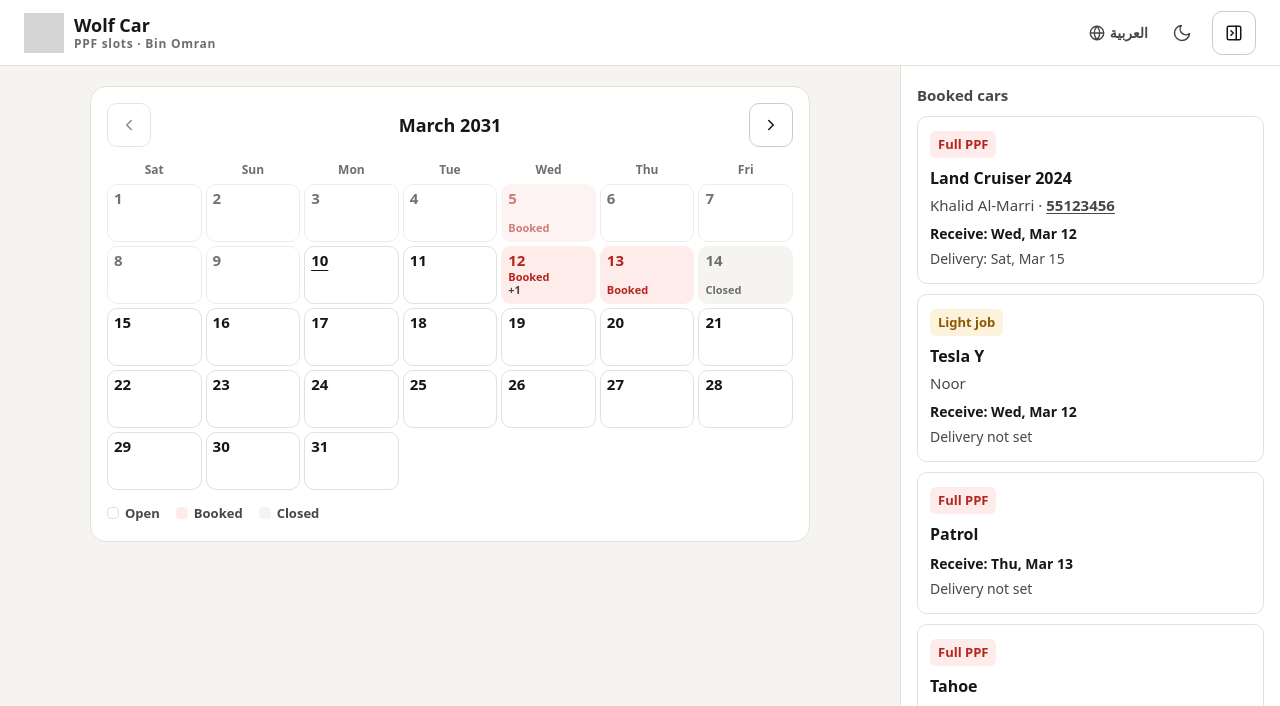
Test case: Sales slots page › says a second full PPF is an exception when asking for one
Click the button "12 Booked +1".
click(549, 275)  # box [501,246,596,304]
(page scrolled)
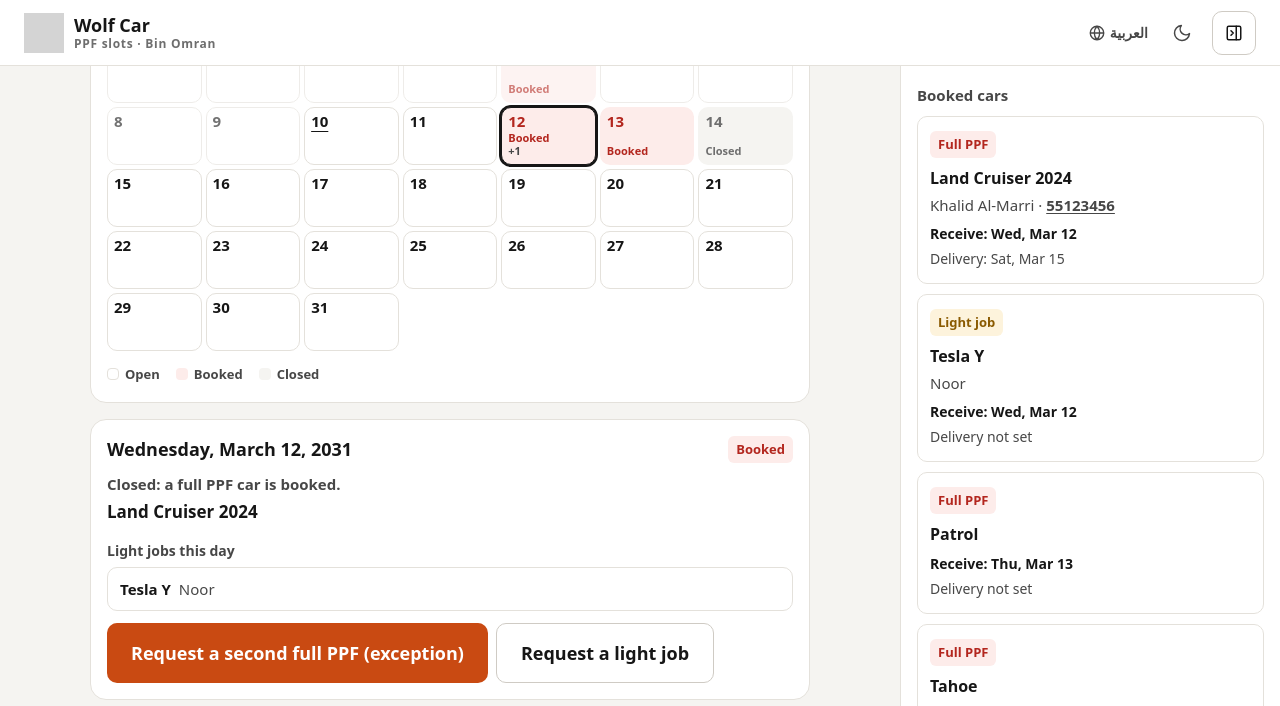
Click the button "Request a second full PPF (exception)".
click(298, 653)  # box [107,623,488,683]
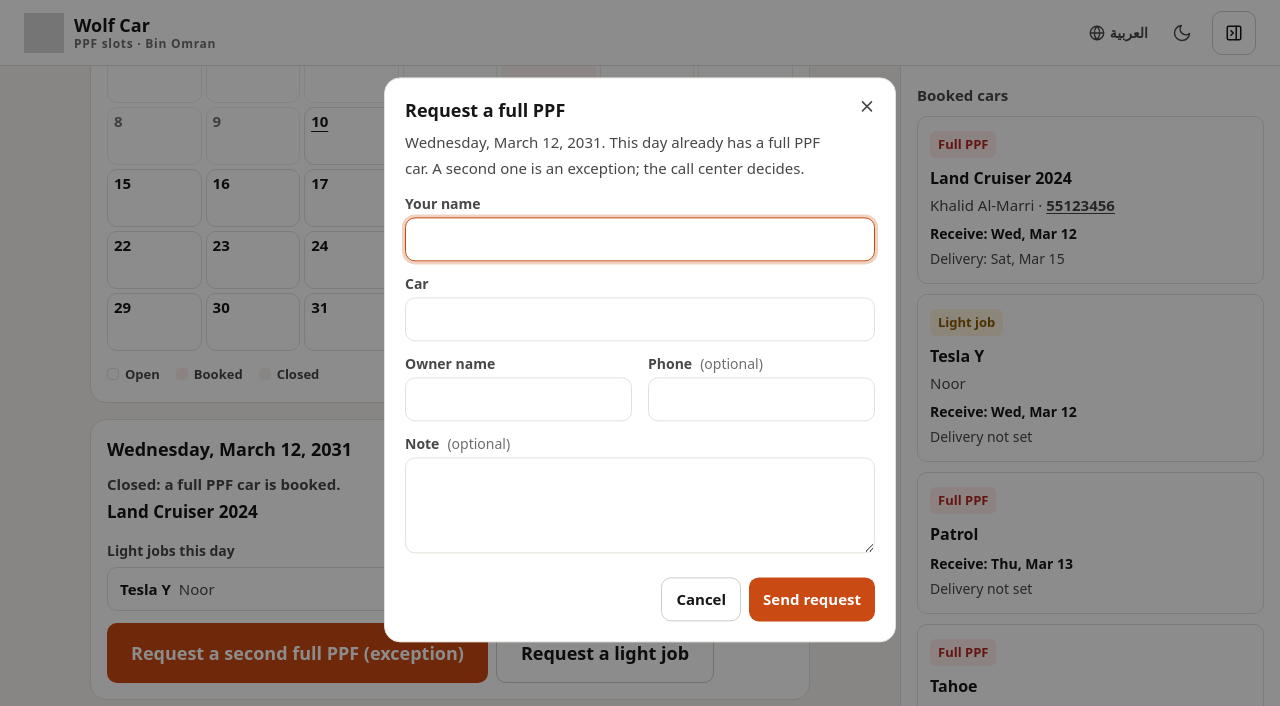
Check: the text "This day already has a full PPF car" is shown, box [405,132,820,178]
